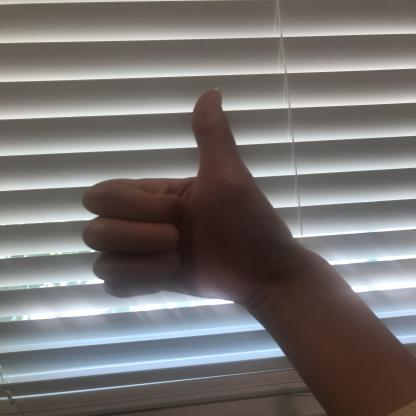Thumbs-Up: (74, 78, 298, 304)
